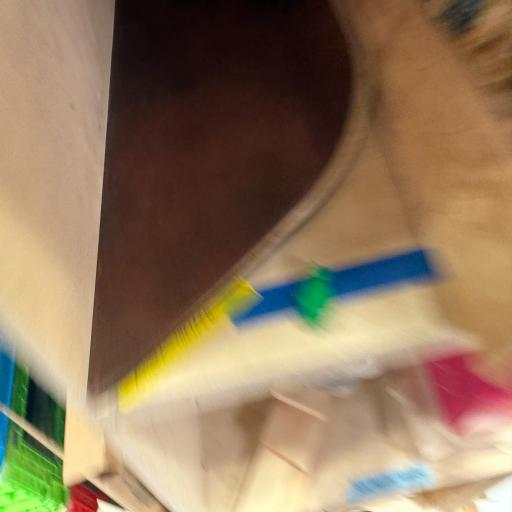Lego-Dude: (282, 248, 342, 335)
